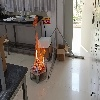fire: (33, 32, 46, 71), (33, 15, 38, 26)
